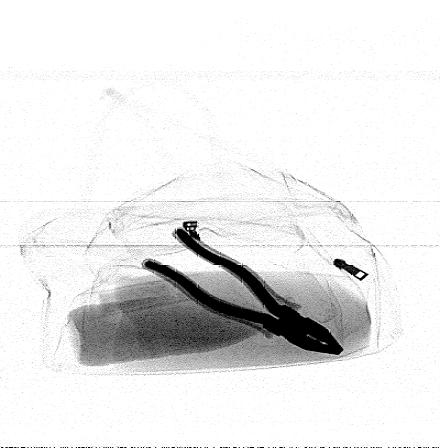Pliers: (141, 227, 348, 357)
